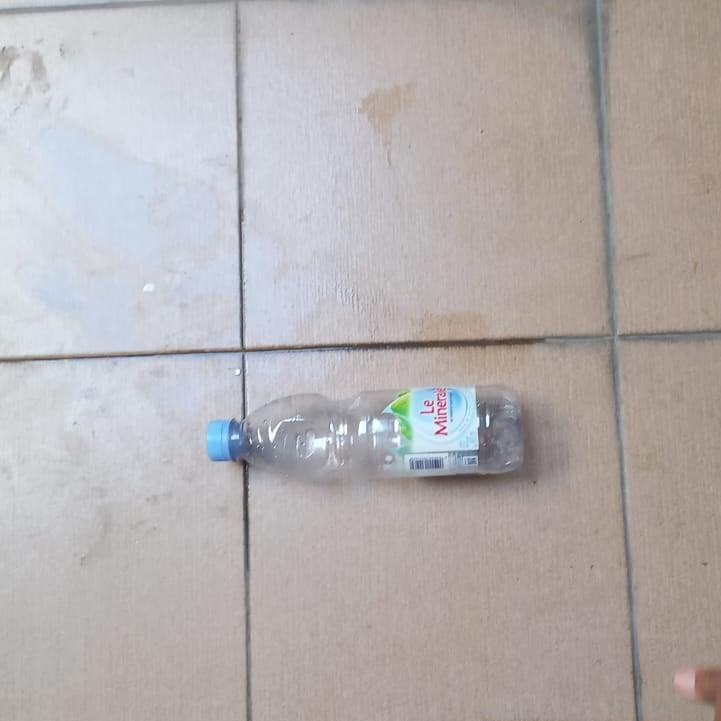Plastik: (206, 384, 525, 483)
